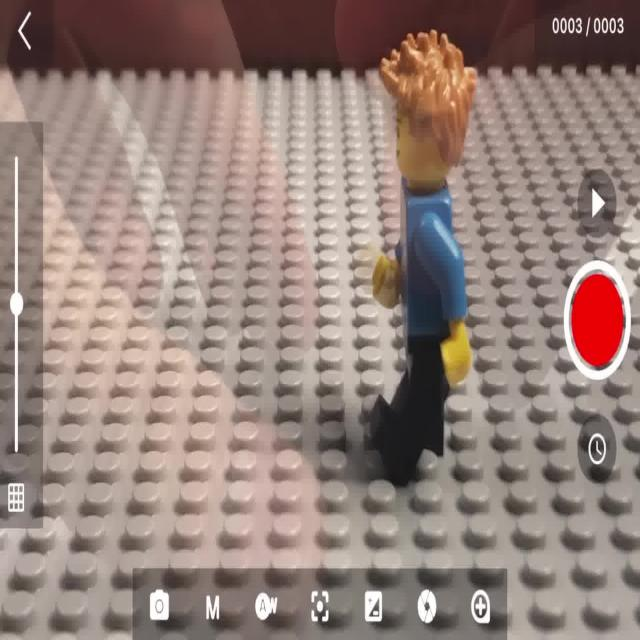4: (421, 213, 472, 388), (373, 256, 399, 309)
hand: (372, 30, 477, 475)
